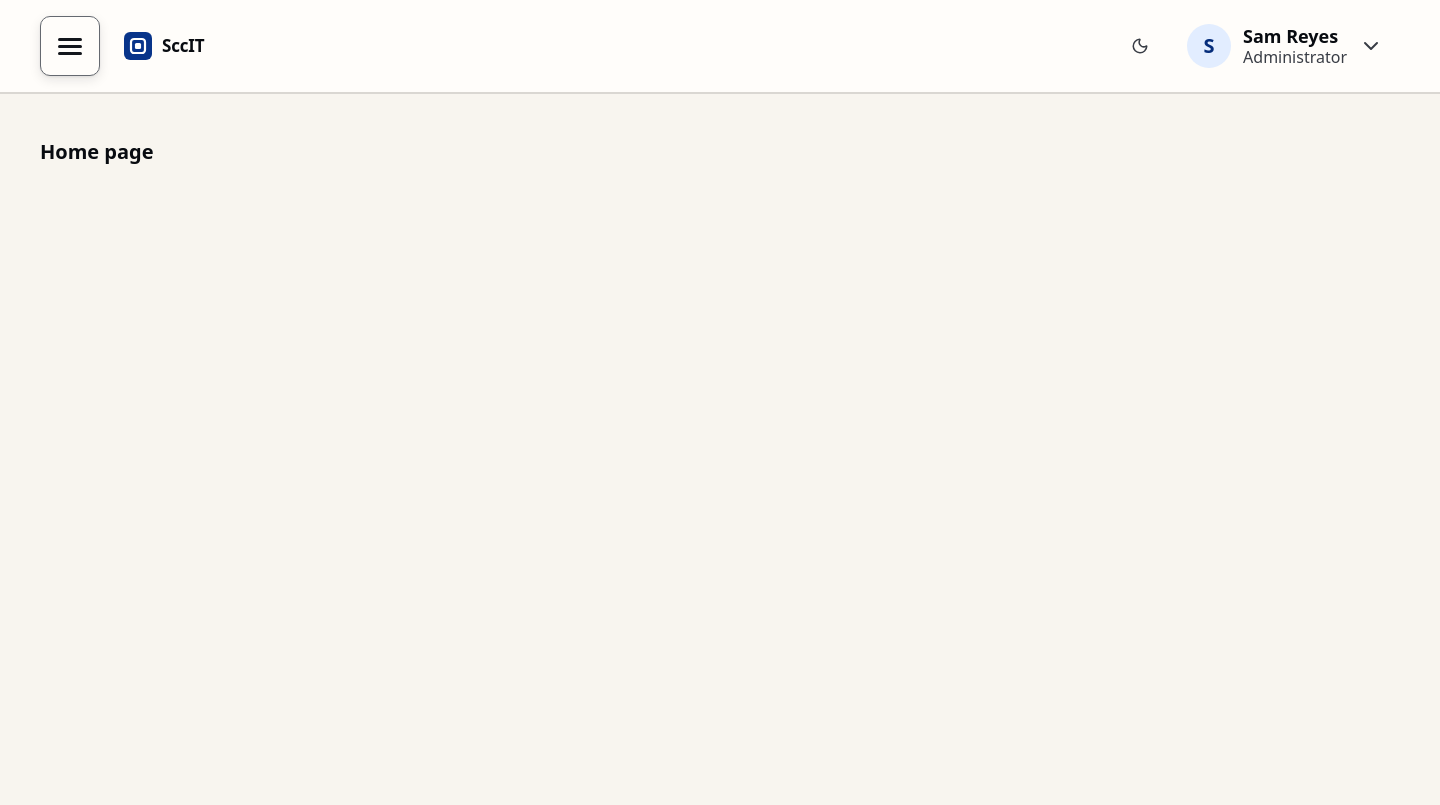
opening and closing › opens on click: the button turns into a close control and the page behind goes inert
Click the button named "open navigation menu". click: click(70, 46)
box: x1=40 y1=16 x2=100 y2=76
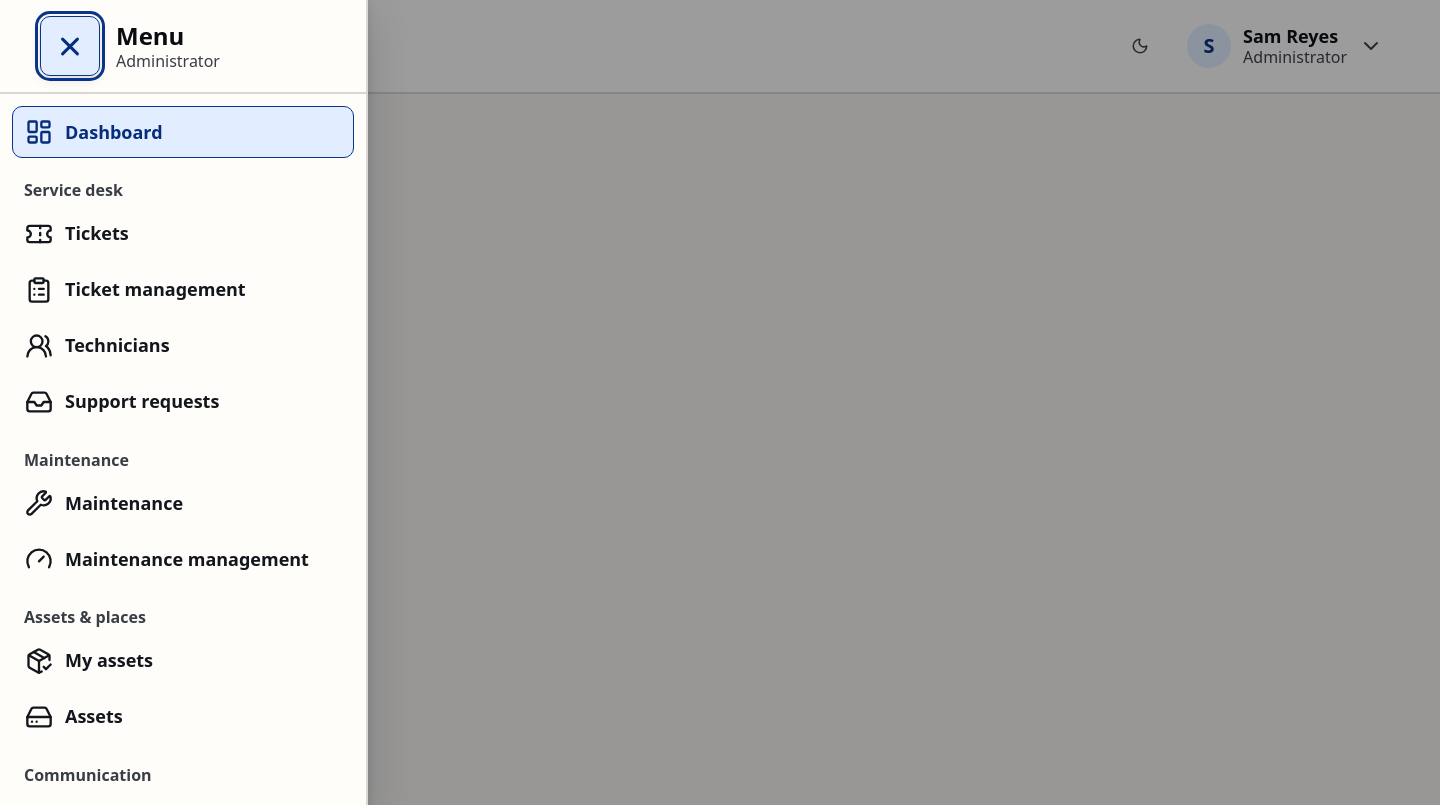
Expected: the element "Home page" is shown, x1=0 y1=0 x2=1439 y2=165
Expected: the button named "close navigation menu" is expanded, x1=40 y1=16 x2=100 y2=76
